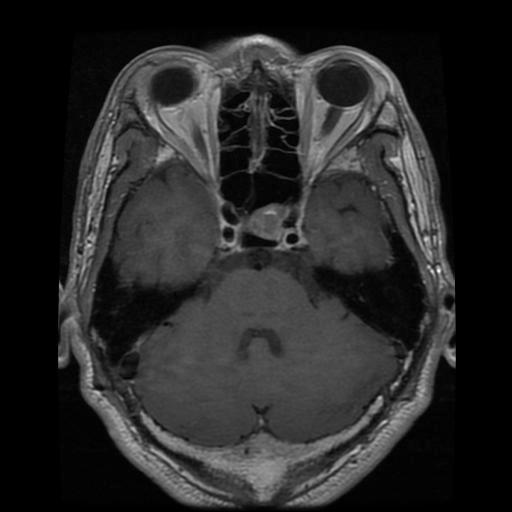Tumour-Pituitary: (209, 201, 317, 266)
